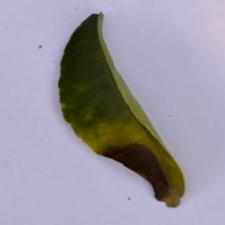Black: (87, 136, 174, 223)
